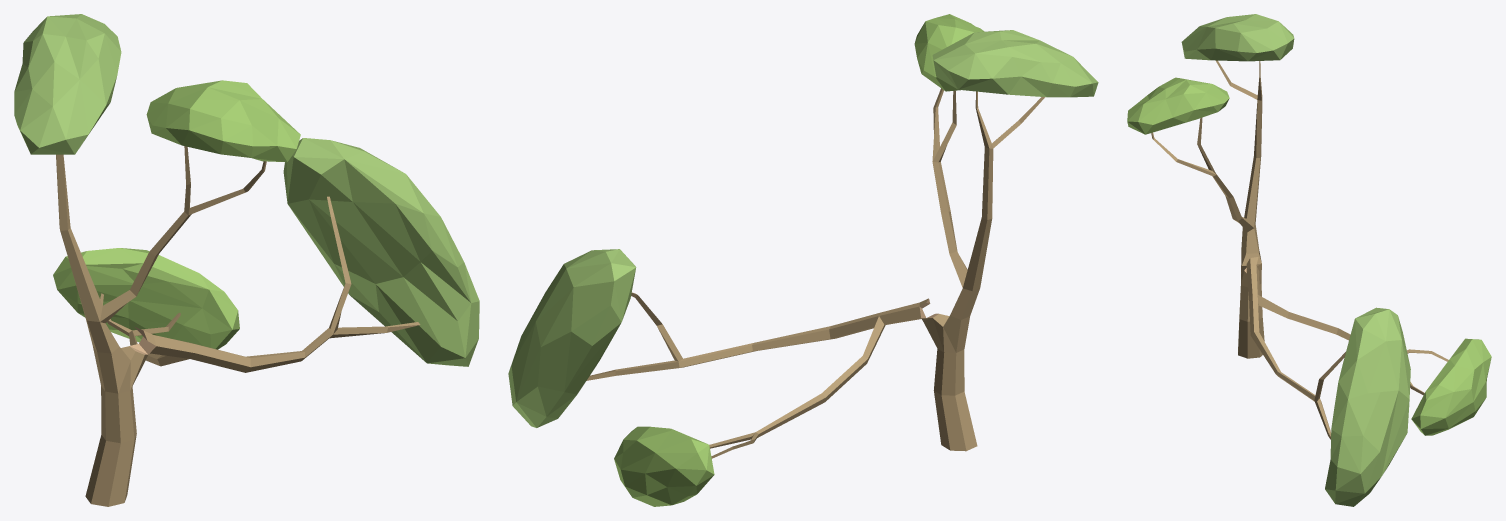
Rendered from Acacia_Tree_crk_l_02_LOD.fbx.
The picture shows the model from 3 angles, left to right: view 1: azimuth 30°, elevation 25°; view 2: azimuth 150°, elevation 25°; view 3: azimuth 270°, elevation 25°; orthographic projection. The views are drawn at different scales.
Parts seen in each view (by area): view 1: Acacia_Tree_crk_l_02_LOD0; view 2: Acacia_Tree_crk_l_02_LOD0; view 3: Acacia_Tree_crk_l_02_LOD0.
Part boxes in pixels (x1,y1,x2,y2): Acacia_Tree_crk_l_02_LOD0: (14, 14, 479, 506); Acacia_Tree_crk_l_02_LOD0: (508, 14, 1098, 506); Acacia_Tree_crk_l_02_LOD0: (1127, 14, 1491, 506).
Size of what is drawn, in the model's own units: 1319 by 1130 by 1110.
